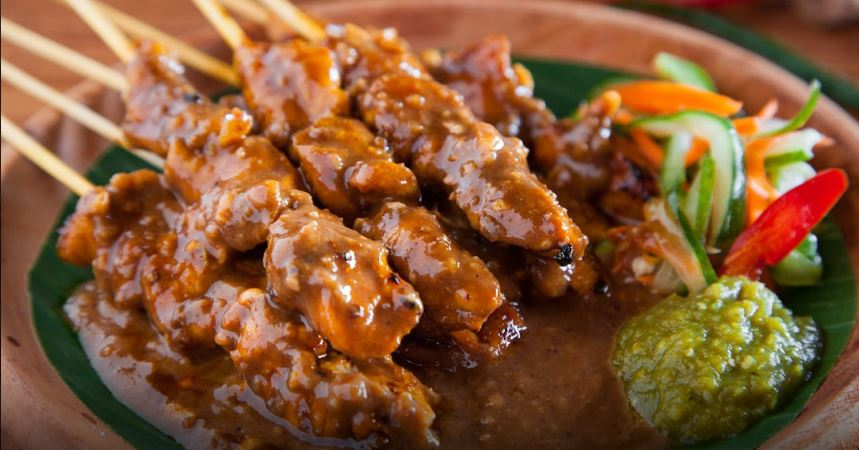sate: (37, 25, 768, 448)
